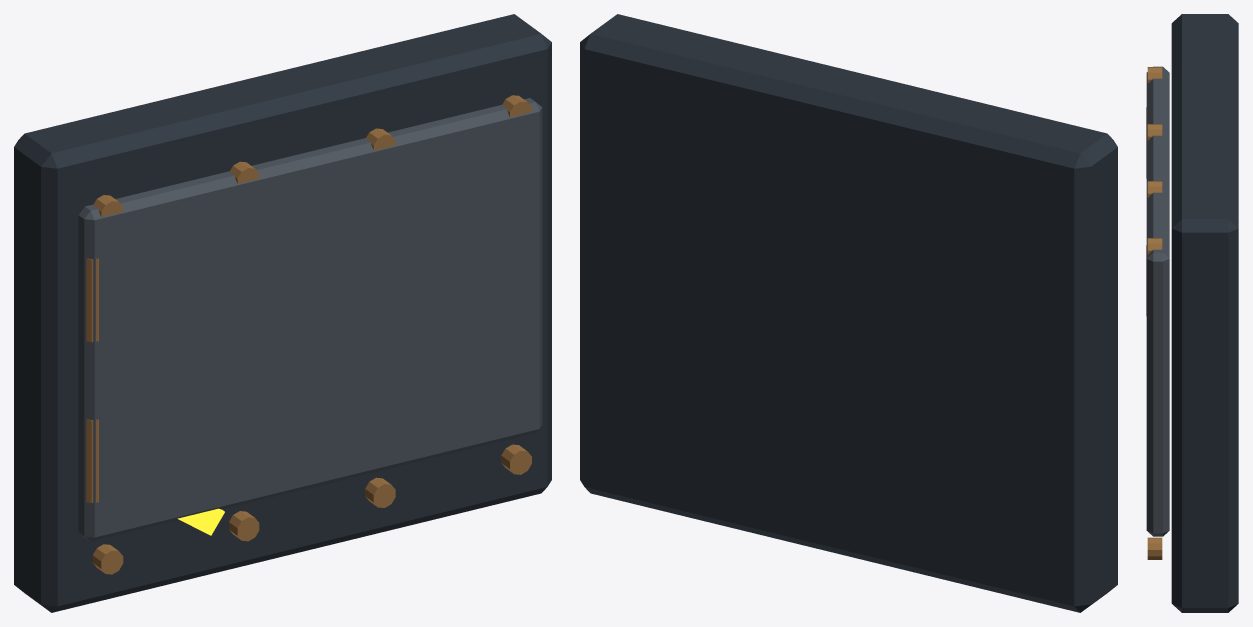
The model's file is runtime.glb.
3 views of the same model, side by side, from view 1: azimuth 30°, elevation 25°; view 2: azimuth 150°, elevation 25°; view 3: azimuth 270°, elevation 25° (orthographic). The views are drawn at different scales.
Visible parts, largest first — view 1: kinetic-tide-maintenance-panel-v04_plate_nocol, kinetic-tide-maintenance-panel-v04_steel_nocol, kinetic-tide-maintenance-panel-v04_bronze_nocol; view 2: kinetic-tide-maintenance-panel-v04_steel_nocol; view 3: kinetic-tide-maintenance-panel-v04_steel_nocol, kinetic-tide-maintenance-panel-v04_plate_nocol, kinetic-tide-maintenance-panel-v04_bronze_nocol.
Boxes of the visible parts, box(x1,y1,x2,y2) form: kinetic-tide-maintenance-panel-v04_plate_nocol: box(78, 98, 542, 541); kinetic-tide-maintenance-panel-v04_steel_nocol: box(14, 14, 551, 612); kinetic-tide-maintenance-panel-v04_bronze_nocol: box(86, 95, 531, 574); kinetic-tide-maintenance-panel-v04_steel_nocol: box(580, 14, 1117, 612); kinetic-tide-maintenance-panel-v04_steel_nocol: box(1171, 14, 1238, 612); kinetic-tide-maintenance-panel-v04_plate_nocol: box(1146, 66, 1169, 536); kinetic-tide-maintenance-panel-v04_bronze_nocol: box(1146, 67, 1162, 559).
Size of the model in its own units: 3.92 by 3.37 by 0.7166.
